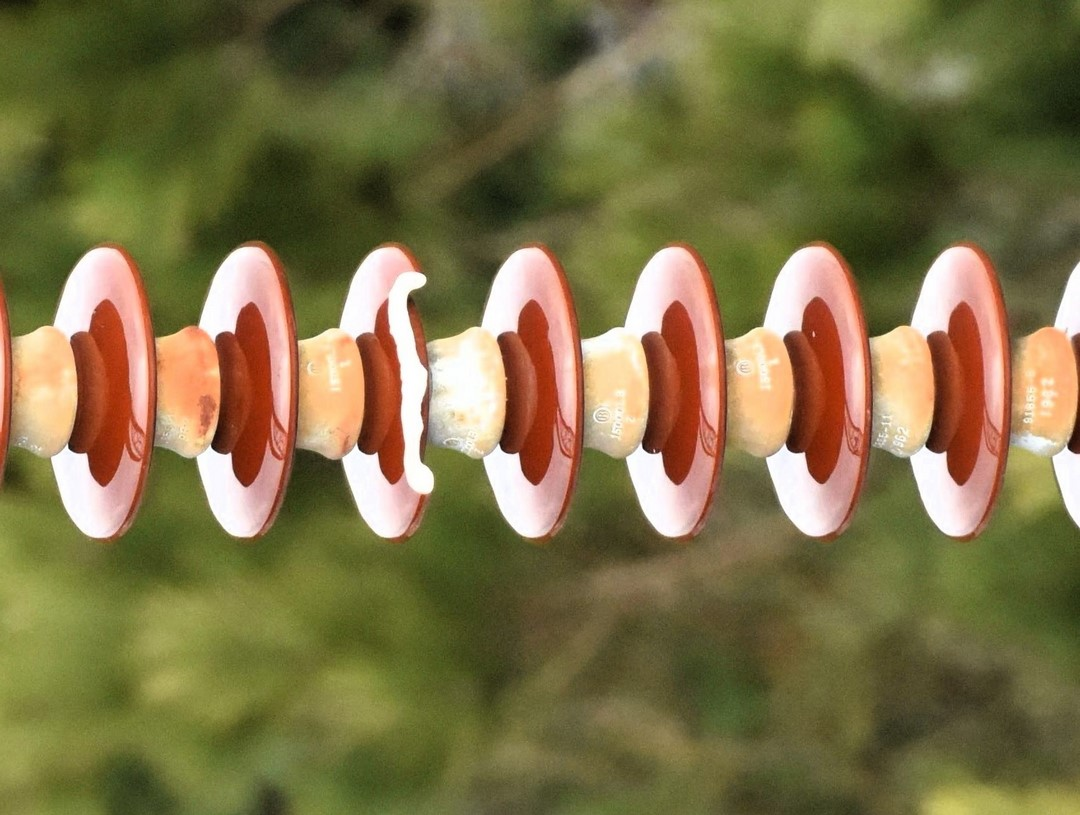insulator breakage: (322, 242, 448, 545)
